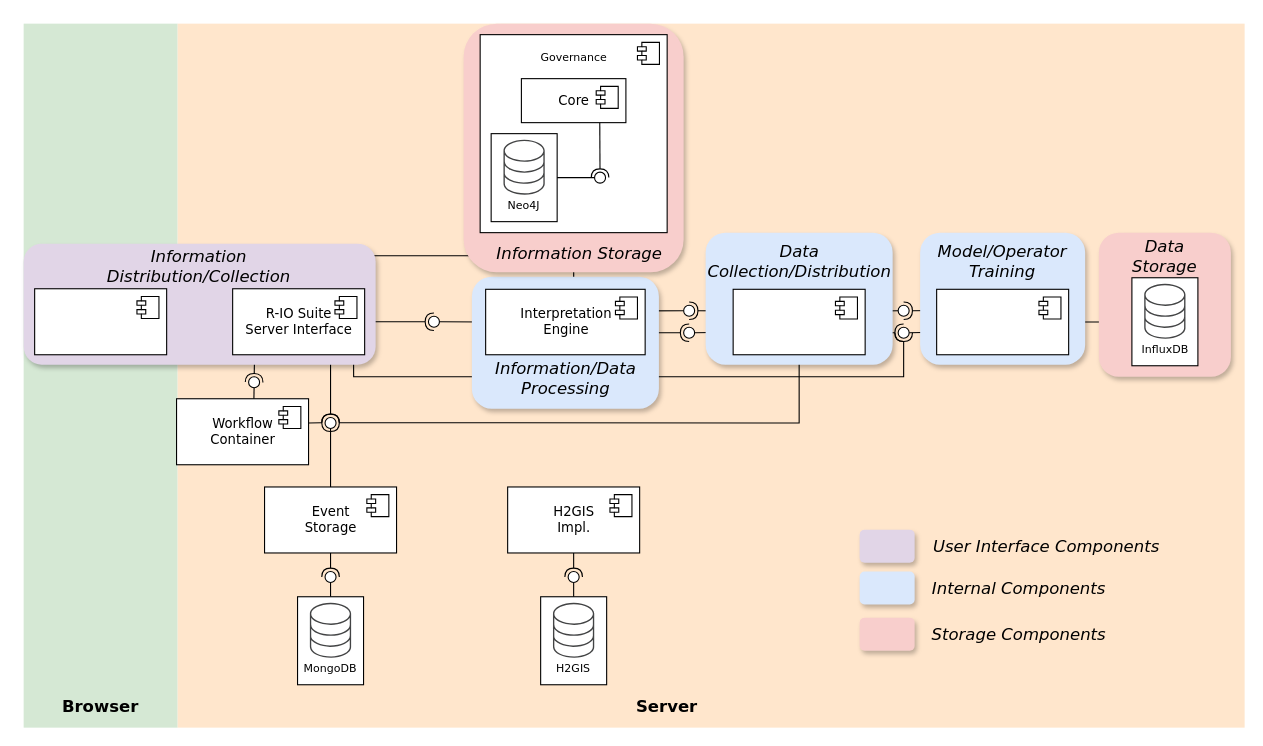
Some shapes in this 1263 by 746 pixel diagram are drawn without their labels. The centre of each missing label's shape, as x and y in pixels:
Event Broker: (x=798, y=321)
Event Producer: (x=1002, y=321)
R-IO Suite Client Interface: (x=100, y=321)
